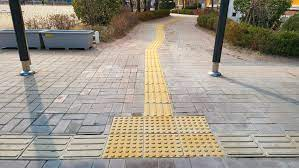guide_blocks: (110, 116, 223, 155), (1, 134, 104, 157), (217, 133, 299, 155), (144, 79, 172, 116), (145, 50, 162, 79), (155, 25, 164, 41), (149, 42, 163, 50)
